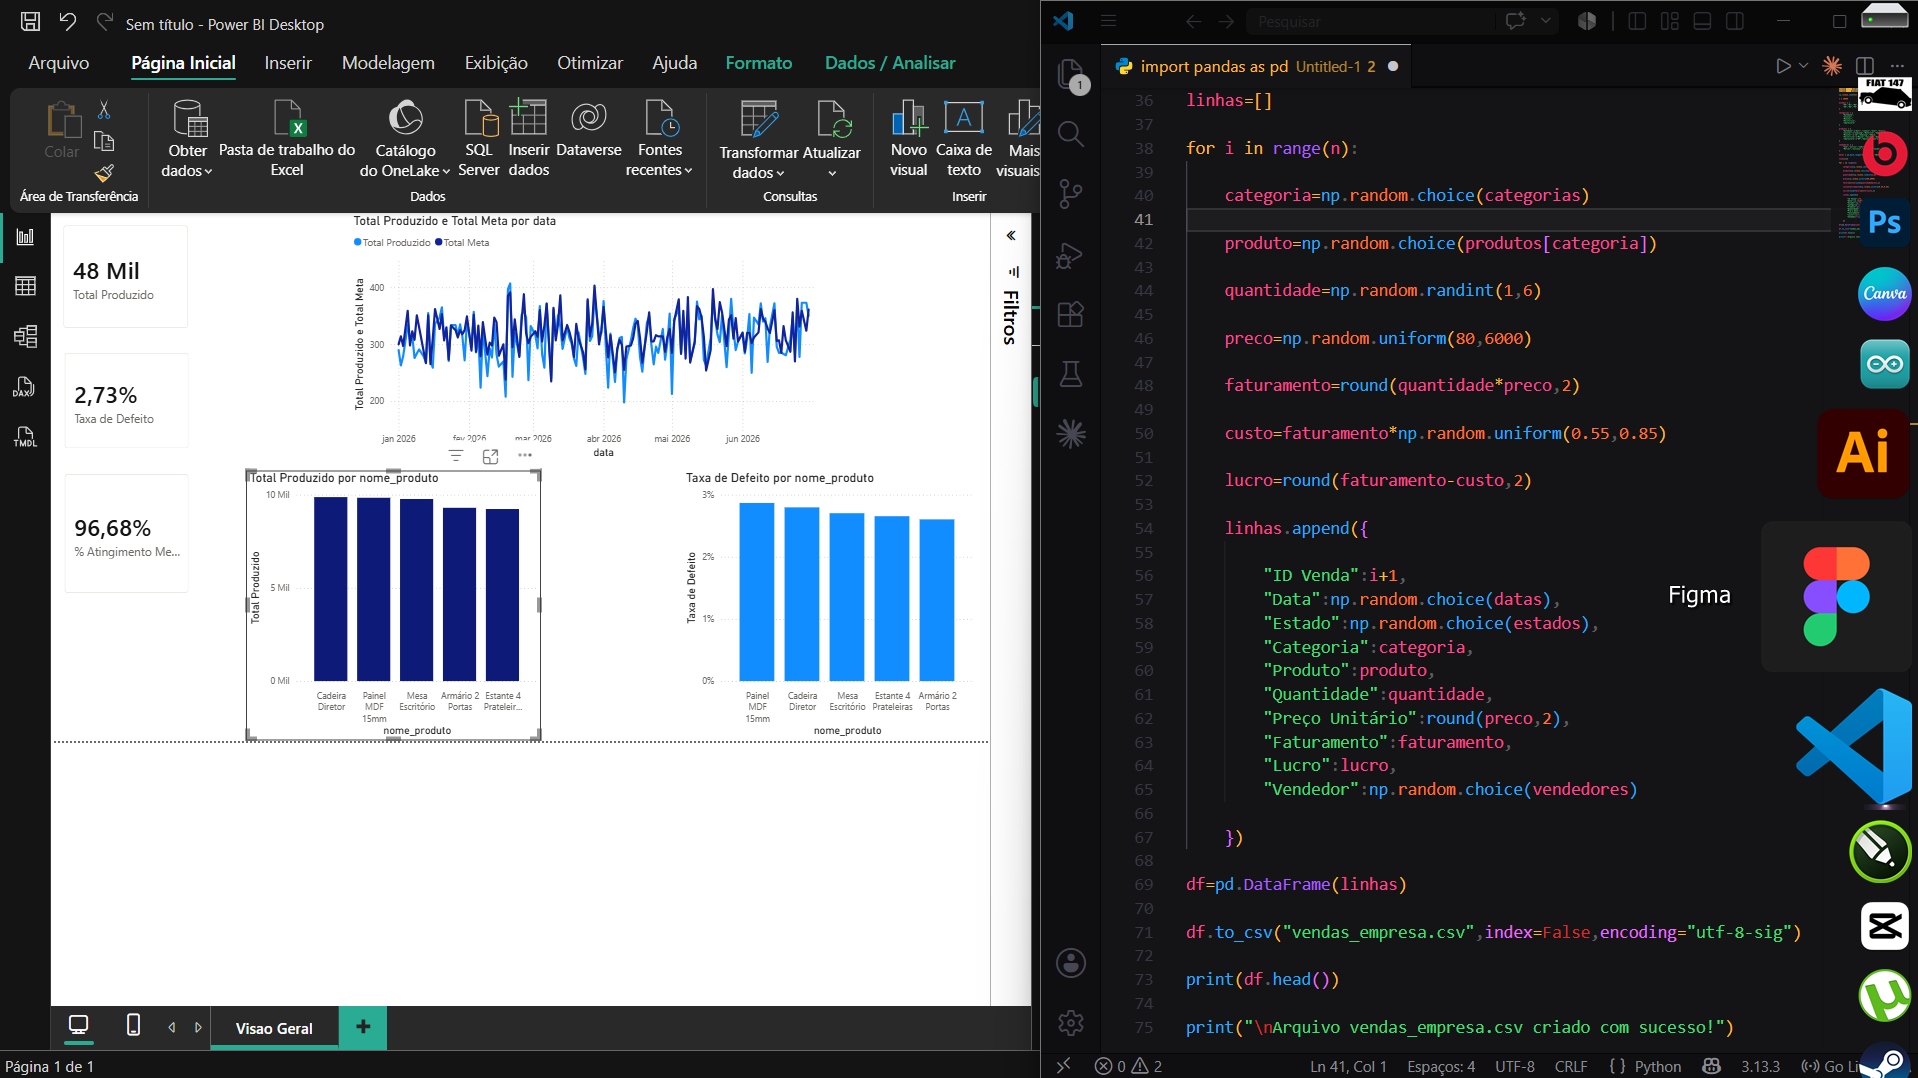

What the dashboard file says about the page in this screenshot:
{"tool":"powerbi","page":{"name":"Visao Geral","canvas":[1280,720],"ordinal":0},"visuals":[{"type":"cardVisual","fields":{"Data":["fato_producao.Total Produzido"]},"box":[0,0,204.7,174.5],"z":0},{"type":"cardVisual","fields":{"Data":["fato_producao.% Atingimento Meta"]},"box":[1.4,339.3,203.3,196.4],"z":1},{"type":"cardVisual","fields":{"Data":["fato_producao.Taxa de Defeito"]},"box":[1.4,174.5,203.3,164.8],"z":2},{"type":"lineChart","fields":{"Y":["fato_producao.Total Produzido","fato_producao.Total Meta"],"Category":["fato_producao.data"]},"box":[408,0,653.9,339.3],"z":3},{"type":"clusteredColumnChart","fields":{"Category":["dim_produtos.nome_produto"],"Y":["fato_producao.Total Produzido"]},"box":[206.8,351.4,402.8,369],"z":4},{"type":"clusteredColumnChart","fields":{"Category":["dim_produtos.nome_produto"],"Y":["fato_producao.Taxa de Defeito"]},"box":[859.9,351.7,402.5,368.1],"z":5},{"type":"textbox","box":[617.7,351.4,220.3,68.9],"z":6}]}

Visuals, with their boxes on the page's 1280x720 design canvas (x1, y1, x2, y2). These are canvas units, not pixel positions in the 1918x1078 screenshot, which may show the page scaled, cropped or inside an application window:
cardVisual - fato_producao.Total Produzido: [x1=0, y1=0, x2=205, y2=174]
cardVisual - fato_producao.% Atingimento Meta: [x1=1, y1=339, x2=205, y2=536]
cardVisual - fato_producao.Taxa de Defeito: [x1=1, y1=174, x2=205, y2=339]
lineChart - fato_producao.Total Produzido x fato_producao.Total Meta: [x1=408, y1=0, x2=1062, y2=339]
clusteredColumnChart - dim_produtos.nome_produto x fato_producao.Total Produzido: [x1=207, y1=351, x2=610, y2=720]
clusteredColumnChart - dim_produtos.nome_produto x fato_producao.Taxa de Defeito: [x1=860, y1=352, x2=1262, y2=720]
textbox: [x1=618, y1=351, x2=838, y2=420]
